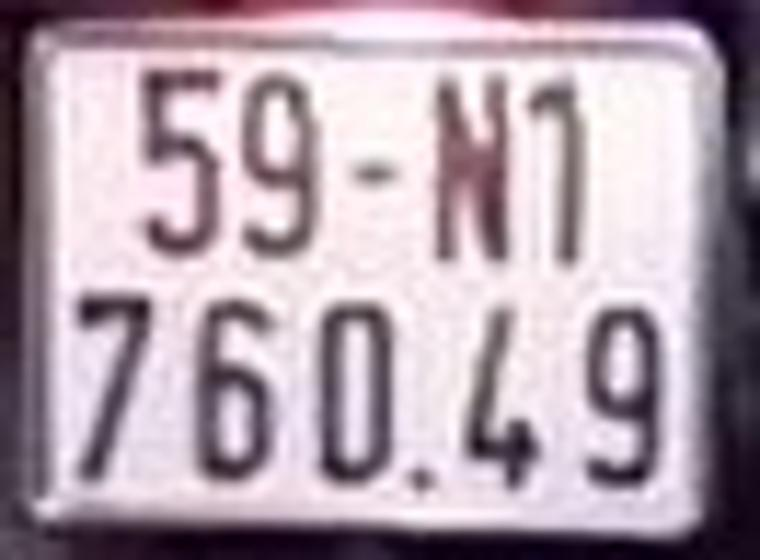-: (350, 159, 397, 183)
.: (408, 455, 437, 500)
0: (311, 302, 394, 477)
1: (526, 73, 583, 263)
4: (454, 305, 538, 489)
5: (137, 71, 215, 256)
6: (186, 300, 273, 487)
7: (71, 292, 151, 484)
9: (584, 303, 659, 486), (242, 79, 315, 250)
N: (431, 74, 509, 260)
